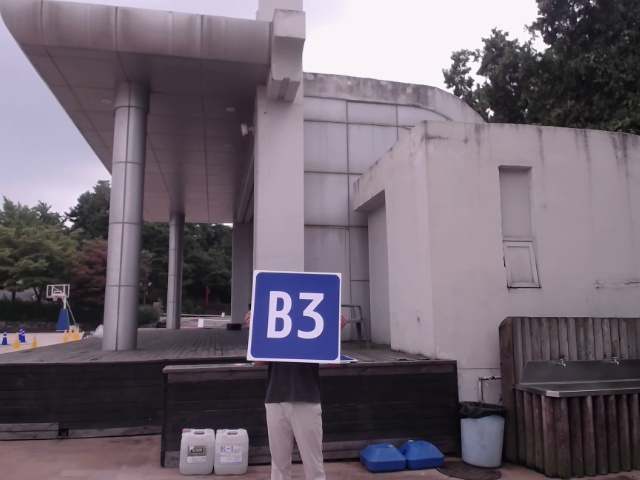delivery_b3: (252, 272, 340, 363)
